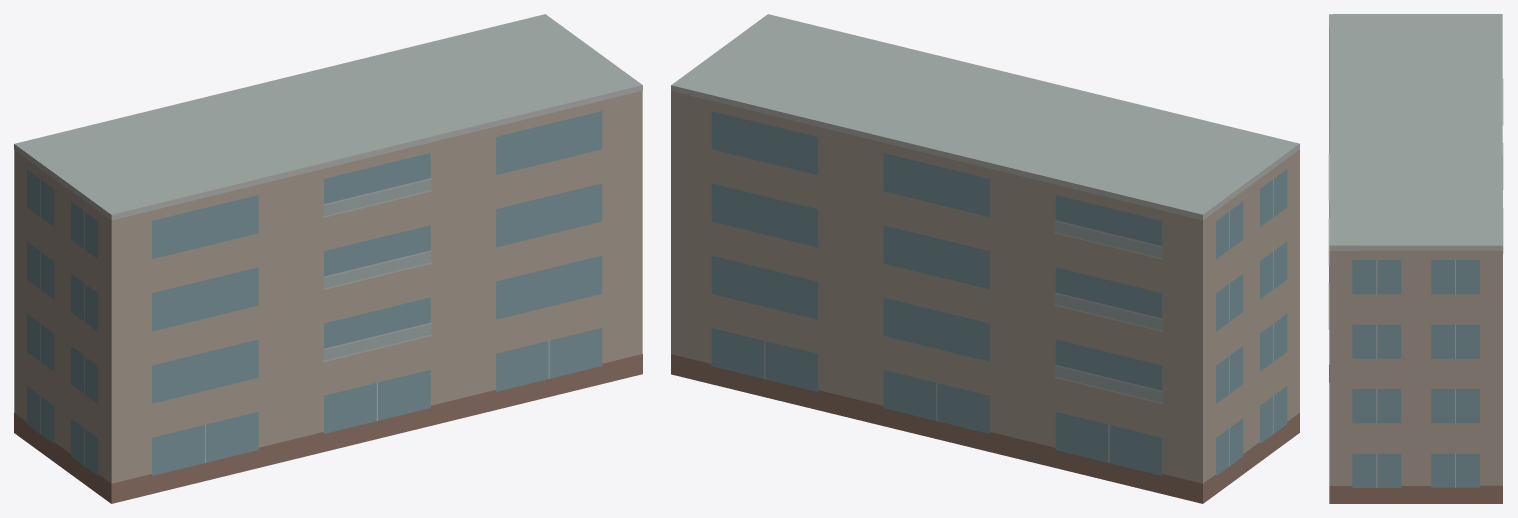
File: survey-upis-32836137.glb
3 renders of one model, left to right at view 1: azimuth 30°, elevation 25°; view 2: azimuth 150°, elevation 25°; view 3: azimuth 270°, elevation 25°, orthographic. The views are drawn at different scales.
Visible parts, largest first — view 1: survey-upis-32836137.tmp; view 2: survey-upis-32836137.tmp; view 3: survey-upis-32836137.tmp.
Boxes of the visible parts, <box> form: survey-upis-32836137.tmp: <box>14,14,642,503</box>; survey-upis-32836137.tmp: <box>671,14,1299,503</box>; survey-upis-32836137.tmp: <box>1328,14,1503,503</box>.
Size of the model in its own units: 23.89 by 12.4 by 7.63.
